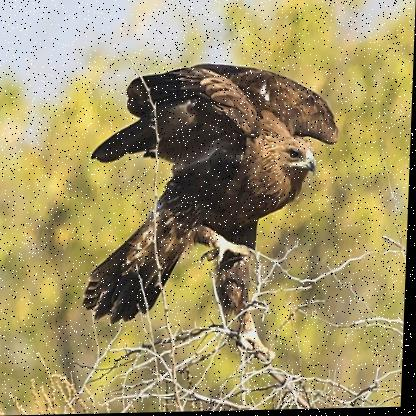Burung: (81, 59, 340, 358)
